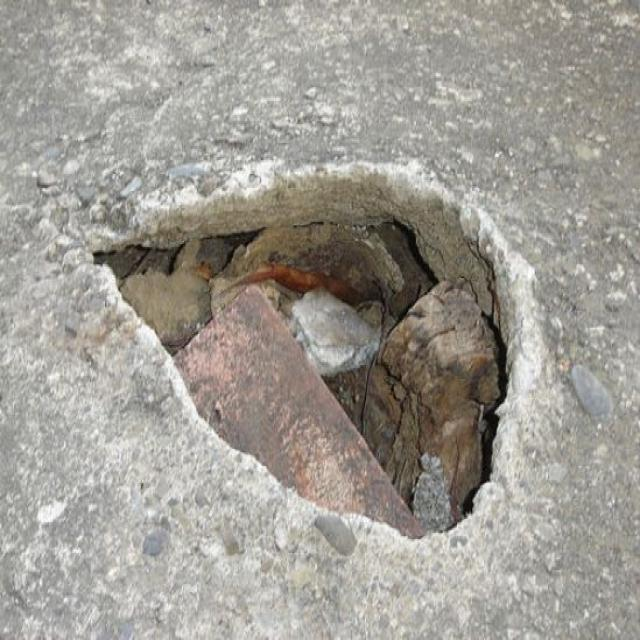pothole: (74, 155, 536, 540)
